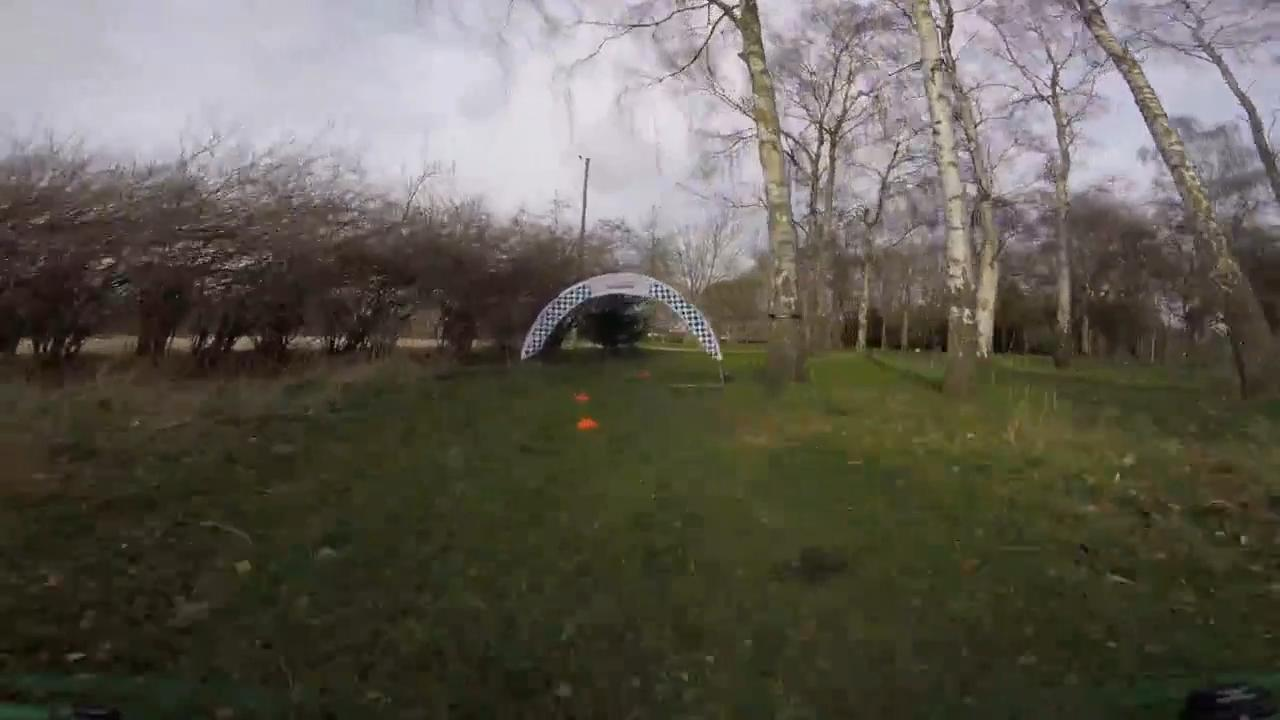gate: (522, 272, 726, 370)
